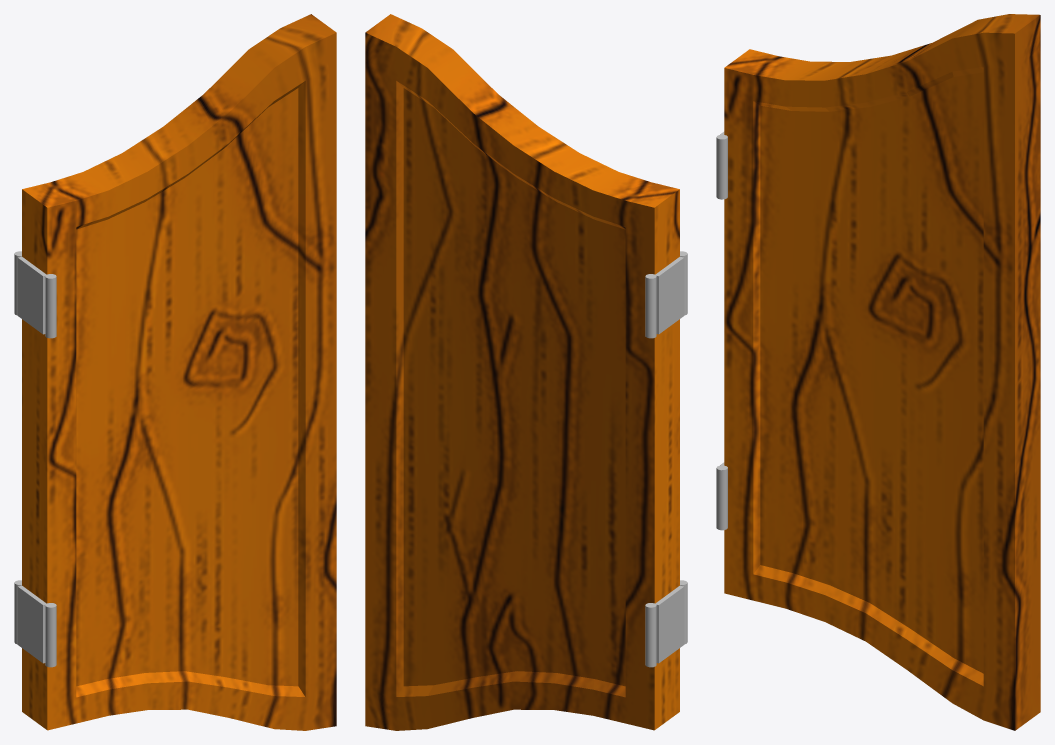
The model's file is SaloonDoor_mesh.fbx.
The picture shows the model from 3 angles, left to right: view 1: azimuth 30°, elevation 25°; view 2: azimuth 150°, elevation 25°; view 3: azimuth 330°, elevation 25°; orthographic projection.
Parts seen in each view (by area): view 1: updated_SaloonDoor_01; view 2: updated_SaloonDoor_01; view 3: updated_SaloonDoor_01.
Part boxes in pixels (x1,y1,x2,y2): updated_SaloonDoor_01: [14, 14, 336, 730]; updated_SaloonDoor_01: [365, 14, 687, 730]; updated_SaloonDoor_01: [716, 14, 1040, 730].
Size of the model in its own units: 50.61 by 114 by 10.86.
